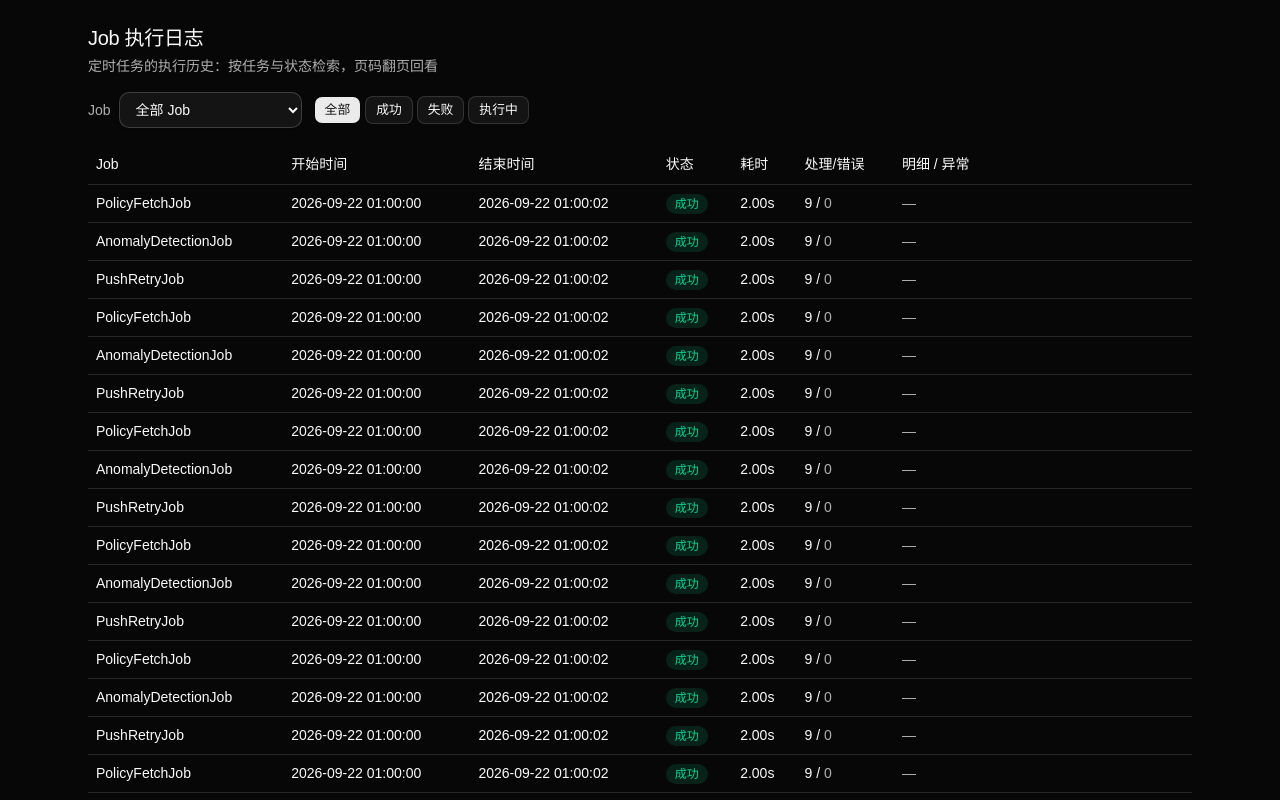
Test case: JobLog 执行日志页 · 首屏与分页 › 状态徽章配色与文字：SUCCESS 绿 / FAILED 红 / STARTED 黄（执行中经筛选可见）
Expected: the row with test id "job-log-row-1" is shown, [88, 184, 1192, 222]
Expected: the icon with test id "job-status-SUCCESS" reads "成功", [675, 196, 699, 210]
# STARTED 从第 34 条起：切「执行中」档后断言黄徽章
Click the button with test id "job-status-filter-STARTED": (499, 110) [468, 96, 529, 124]
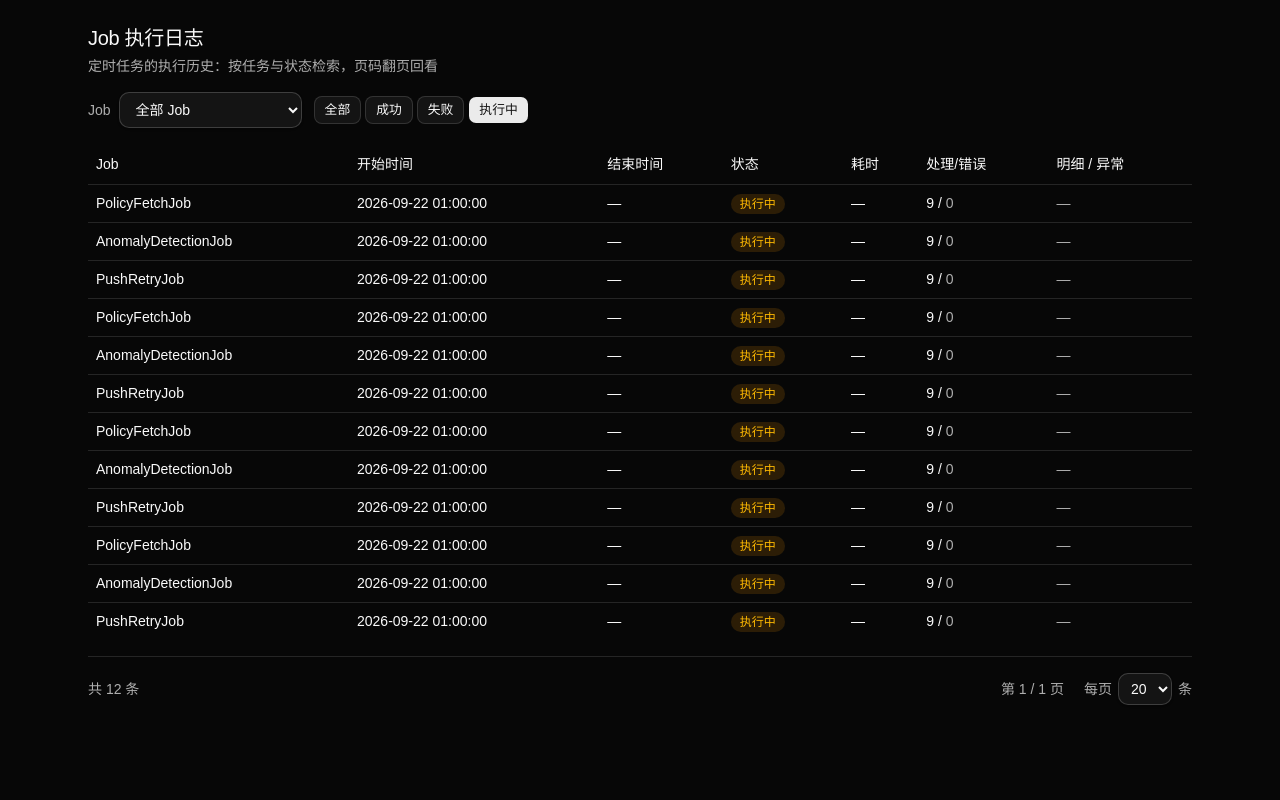
Expected: the icon with test id "job-status-STARTED" reads "执行中", [740, 196, 776, 210]
